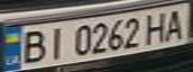0: (69, 21, 93, 57)
2: (121, 15, 145, 49), (90, 19, 112, 55)
6: (106, 17, 127, 53)
A: (160, 6, 190, 42)
B: (15, 27, 51, 64)
H: (142, 10, 172, 44)
I: (42, 25, 69, 61)
